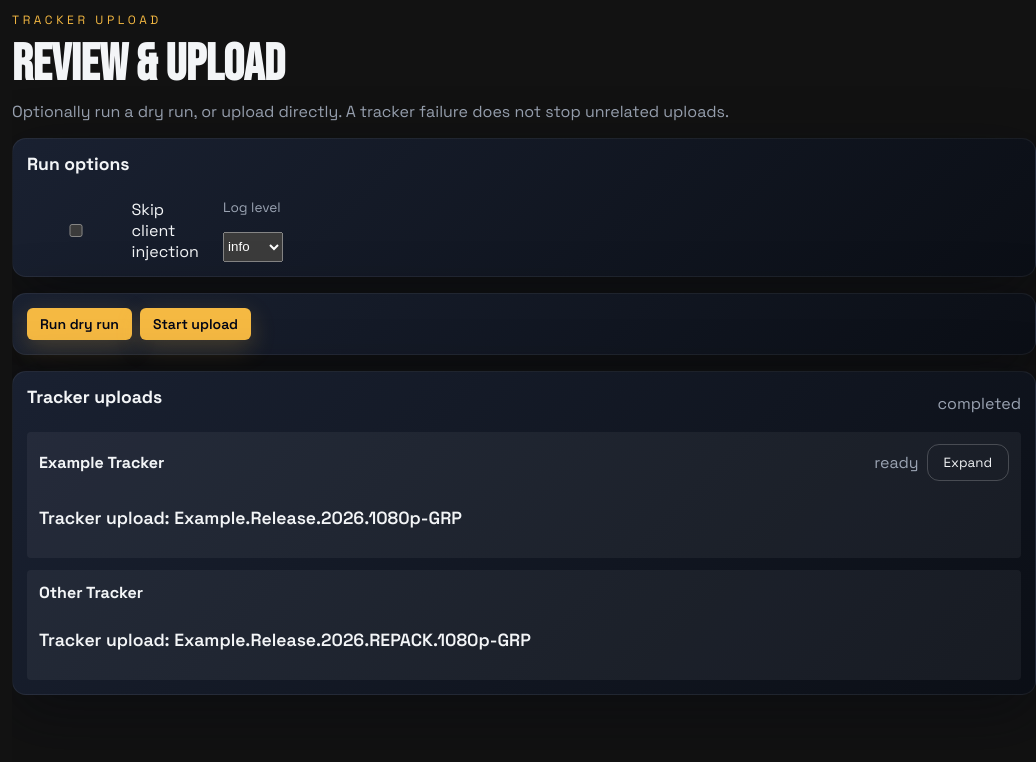
TrackerUploadPage › merges dry-run report details by tracker without replacing unrelated projections
The width and height of the screenshot is (1036, 762).
Expected: the text "Example.Release.2026.1080p-GRP" is shown, top-left (174, 507), bottom-right (462, 529)
Expected: the text "Example.Release.2026.REPACK.1080p-GRP" is shown, top-left (174, 629), bottom-right (531, 651)
What coordinates should you click on to do the following:
click the button with aria-label "Expand Example Tracker"
I would click on:
 (968, 462)
Its box is top-left (927, 444), bottom-right (1009, 481).
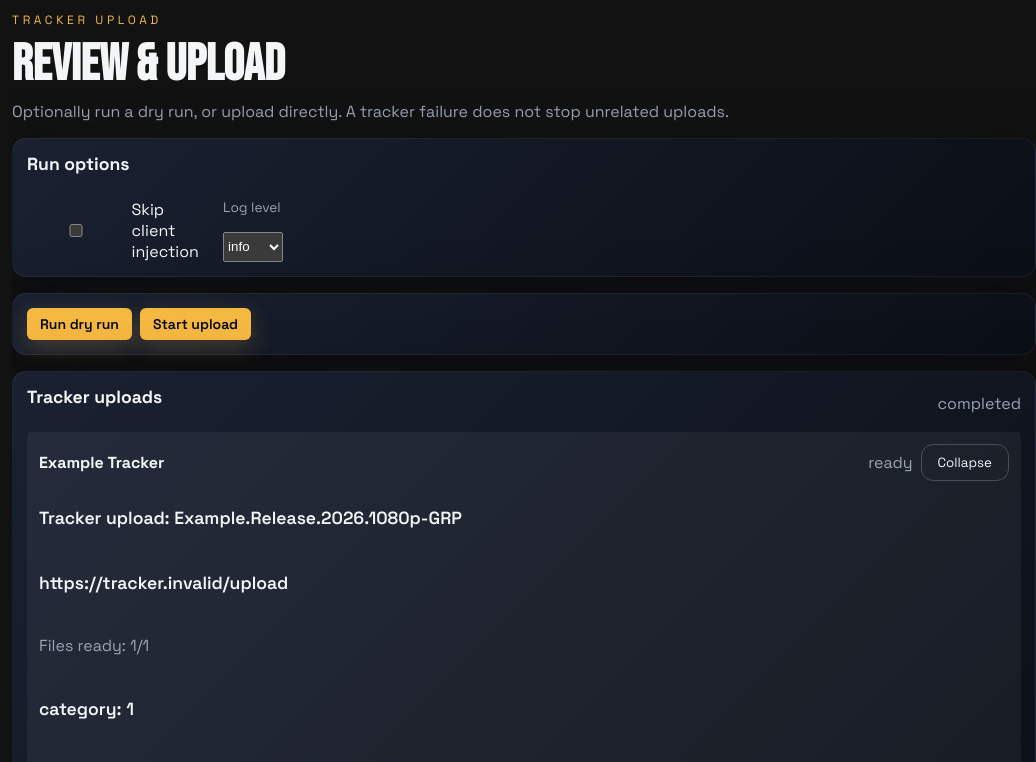
Now the text "https://tracker.invalid/upload" is shown, box top-left (39, 572), bottom-right (288, 594)
Now the text "category: 1" is shown, box top-left (39, 698), bottom-right (134, 720)
